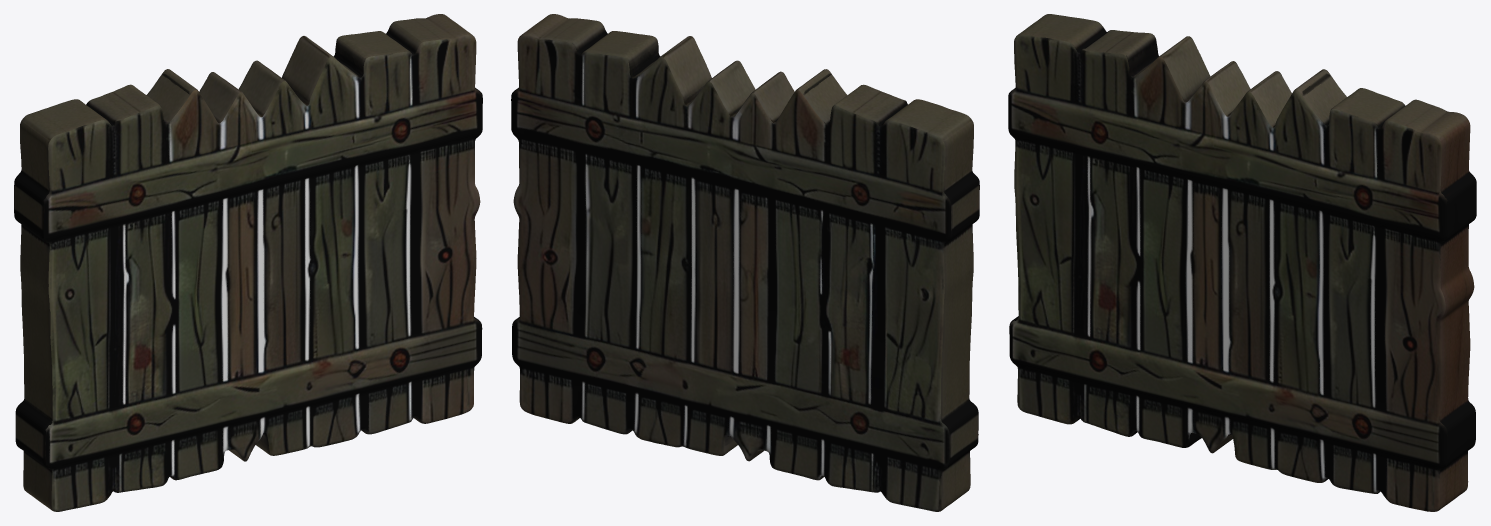
File: catalog-build-93.glb
3 renders of one model, left to right at view 1: azimuth 30°, elevation 25°; view 2: azimuth 150°, elevation 25°; view 3: azimuth 330°, elevation 25°, orthographic.
Visible parts, largest first — view 1: tmpcufi5bfn.ply; view 2: tmpcufi5bfn.ply; view 3: tmpcufi5bfn.ply.
Part boxes in pixels (<box>): tmpcufi5bfn.ply: <box>14,14,482,511</box>; tmpcufi5bfn.ply: <box>511,14,979,511</box>; tmpcufi5bfn.ply: <box>1008,14,1476,511</box>.
Bounding box in the file's own units: 1.96 × 1.66 × 0.2409.
Materials: 1 (1 with a texture image).
